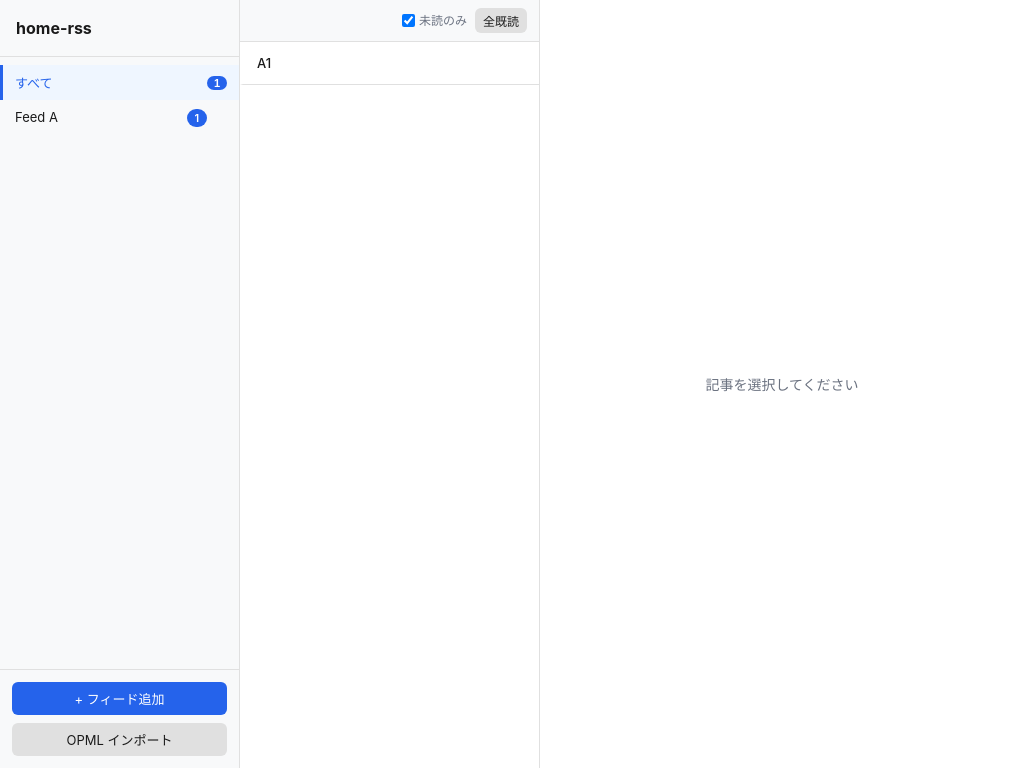
Scenario: App › adding a feed › reports a failed list reload alongside a failed add
Click the button "+ フィード追加": (120, 698) [12, 682, 227, 715]
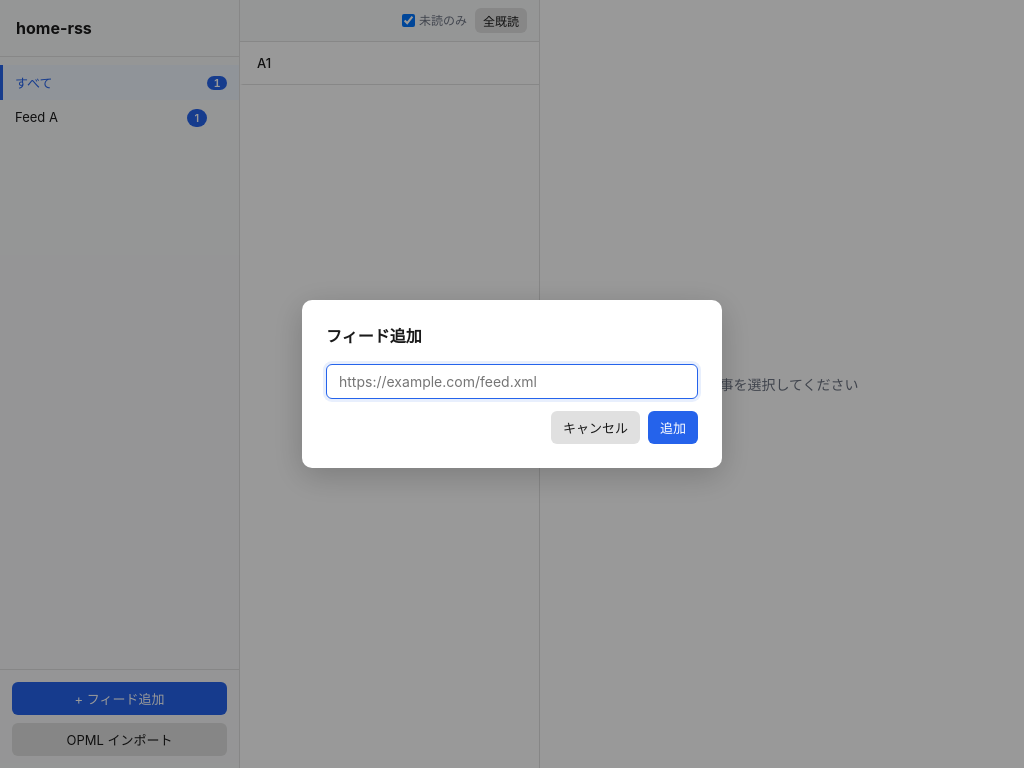
In the field with placeholder "https://example.com/feed.xml": (512, 382) [326, 364, 698, 399], type "https://fb.example/feed.xml"
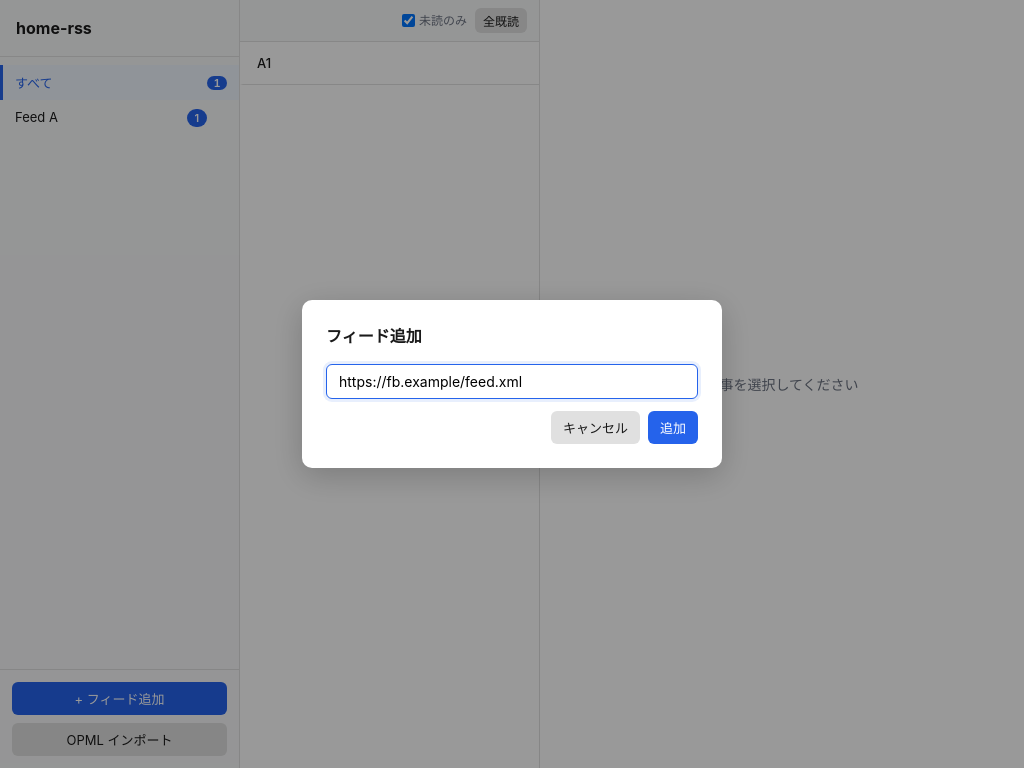
Click the button "追加": (673, 428) [648, 411, 698, 444]
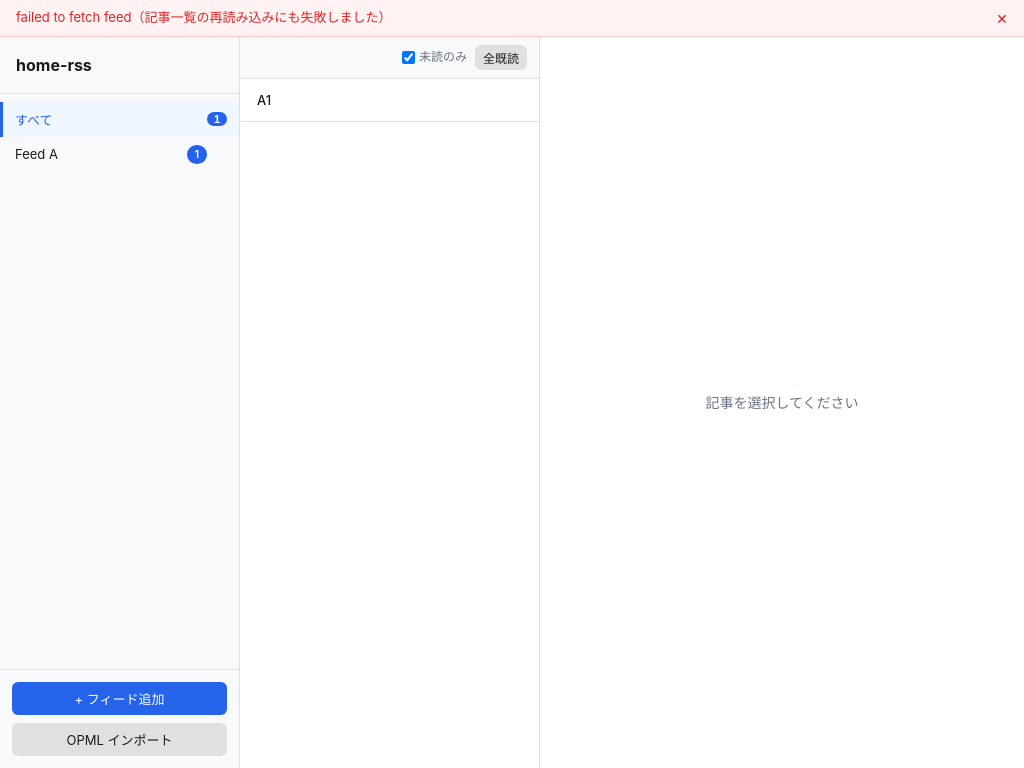
Expected: the element with class "error-banner" shows "failed to fetch feed（記事一覧の再読み込みにも失敗しました）", [16, 9, 391, 25]
